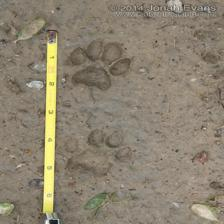lynx: (59, 129, 134, 185), (65, 40, 134, 92)
